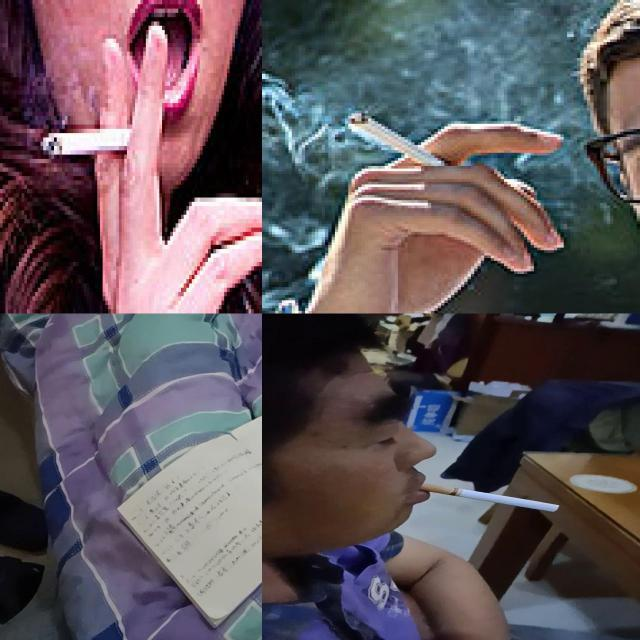smoke: (342, 108, 448, 166), (419, 483, 563, 512), (32, 120, 124, 155)
